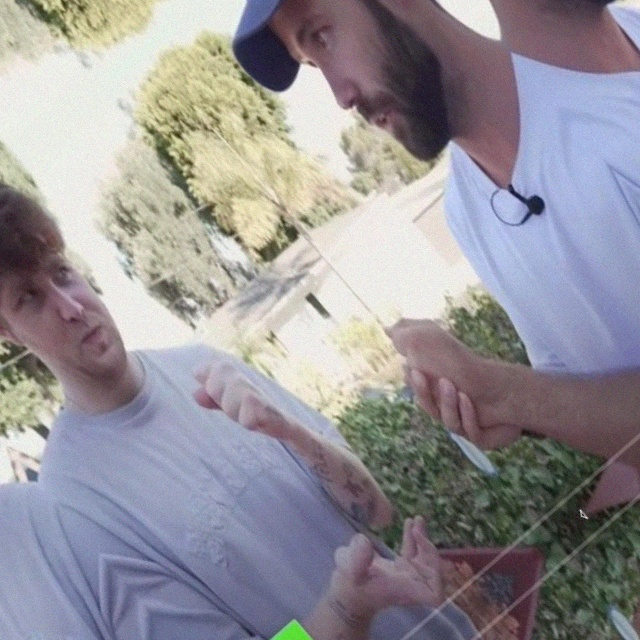Rock: (376, 294, 521, 448), (175, 342, 286, 458)
